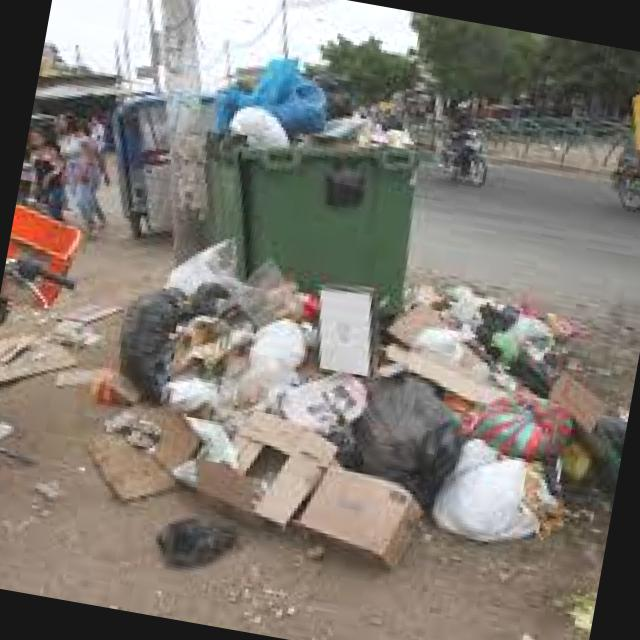garbage: (85, 36, 640, 596)
